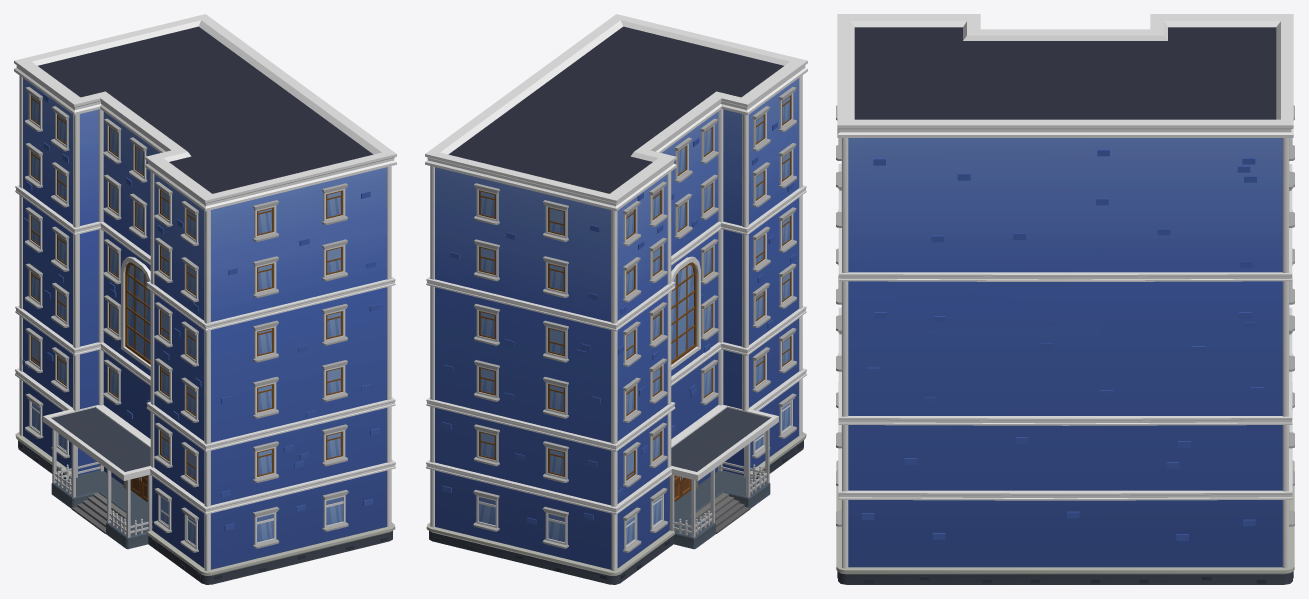
Rendered from Building_5_4_D.fbx.
The picture shows the model from 3 angles, left to right: view 1: azimuth 30°, elevation 25°; view 2: azimuth 150°, elevation 25°; view 3: azimuth 270°, elevation 25°; orthographic projection. The views are drawn at different scales.
Visible parts, largest first — view 1: Building_5_4_D; view 2: Building_5_4_D; view 3: Building_5_4_D.
Boxes of the visible parts, left/top/right/bottom form: Building_5_4_D: left=14, top=14, right=396, bottom=584; Building_5_4_D: left=425, top=14, right=807, bottom=584; Building_5_4_D: left=836, top=14, right=1294, bottom=584.
Bounding box in the file's own units: 1251 × 2109 × 1908.
